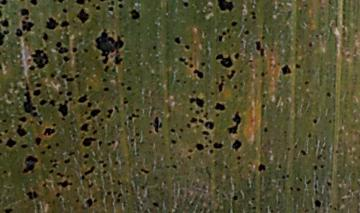tarspot: (94, 28, 125, 65), (21, 81, 39, 118), (226, 110, 243, 136), (30, 48, 49, 70), (21, 155, 39, 175), (214, 52, 233, 68), (57, 100, 70, 121), (13, 123, 30, 139), (149, 115, 162, 135), (216, 1, 235, 14), (76, 8, 90, 25), (44, 16, 59, 31), (81, 136, 97, 150), (187, 96, 205, 108), (279, 62, 293, 77), (20, 19, 35, 33), (216, 74, 226, 94), (254, 40, 265, 58), (128, 8, 141, 22), (56, 179, 73, 189), (86, 108, 100, 120), (192, 68, 205, 80), (231, 138, 242, 152), (212, 101, 226, 112), (4, 135, 15, 149), (42, 127, 56, 138), (75, 93, 88, 104), (25, 190, 39, 200), (33, 135, 43, 148), (79, 122, 90, 133), (256, 162, 266, 174), (19, 7, 31, 17), (176, 57, 188, 67), (83, 166, 96, 175), (312, 198, 322, 209), (101, 64, 111, 75), (204, 120, 215, 130), (226, 69, 236, 80), (128, 113, 140, 122), (194, 142, 204, 152), (188, 116, 197, 127), (55, 171, 66, 180), (59, 19, 70, 28), (1, 17, 10, 28), (212, 141, 224, 149), (105, 107, 113, 119), (31, 88, 41, 97), (84, 198, 93, 208), (47, 98, 56, 108), (172, 35, 181, 45), (14, 28, 23, 38), (106, 139, 117, 147), (57, 46, 68, 54), (42, 31, 49, 43), (324, 90, 333, 99), (113, 104, 121, 114), (122, 96, 130, 106), (1, 31, 6, 47), (202, 109, 209, 120), (17, 116, 28, 123), (139, 167, 150, 174), (181, 1, 190, 9), (2, 207, 14, 213), (19, 142, 28, 150), (39, 98, 47, 107), (27, 64, 36, 72), (62, 55, 71, 63), (293, 63, 302, 71), (66, 150, 76, 157), (115, 178, 122, 188), (250, 10, 257, 20), (168, 138, 176, 146), (86, 181, 94, 189), (63, 157, 71, 165), (125, 85, 133, 93), (299, 148, 306, 157), (81, 152, 90, 159), (82, 46, 89, 55), (37, 119, 44, 128), (241, 29, 250, 36), (90, 129, 99, 136), (262, 125, 268, 135), (311, 116, 317, 126), (315, 153, 321, 163), (65, 77, 75, 83), (234, 51, 240, 61), (217, 34, 223, 44), (234, 154, 242, 161), (102, 86, 110, 93), (167, 127, 175, 134), (325, 178, 332, 186), (230, 20, 238, 27), (65, 89, 72, 97), (152, 201, 160, 208), (45, 143, 52, 151), (48, 72, 56, 79), (71, 46, 78, 54), (55, 41, 63, 48), (105, 189, 112, 197), (260, 102, 267, 110), (302, 80, 310, 87), (133, 107, 141, 114), (200, 130, 211, 135), (34, 82, 43, 88), (59, 73, 68, 79), (29, 1, 39, 6), (214, 111, 221, 118), (283, 172, 290, 179), (318, 162, 325, 169), (222, 163, 229, 170), (61, 7, 68, 14), (231, 83, 238, 90), (107, 6, 114, 13), (94, 4, 101, 11), (295, 185, 301, 193), (279, 173, 285, 181), (189, 89, 197, 95), (97, 139, 103, 147), (51, 163, 59, 169), (97, 159, 105, 165), (184, 43, 190, 51), (23, 35, 29, 43), (208, 147, 213, 156), (288, 184, 293, 193), (306, 132, 312, 139), (249, 195, 256, 201), (302, 206, 308, 213), (184, 122, 190, 129), (55, 191, 61, 198), (86, 102, 92, 109), (47, 168, 54, 174), (41, 182, 47, 189), (101, 169, 107, 176), (113, 159, 119, 166), (119, 81, 125, 88), (52, 1, 66, 4), (101, 77, 108, 83), (74, 73, 80, 80), (178, 127, 184, 134), (134, 131, 141, 137), (171, 163, 177, 170), (23, 15, 30, 21), (200, 61, 206, 68), (140, 184, 146, 191), (186, 154, 192, 161), (187, 148, 193, 155), (307, 41, 313, 48), (220, 30, 226, 37), (225, 27, 231, 34), (226, 33, 232, 40), (188, 62, 194, 69), (232, 194, 238, 201), (314, 174, 320, 181), (312, 182, 318, 189), (313, 189, 319, 196), (117, 3, 124, 9), (3, 29, 10, 35), (194, 109, 199, 117), (75, 1, 85, 5), (260, 70, 265, 78), (250, 205, 256, 211), (305, 179, 311, 185), (197, 118, 203, 124), (3, 128, 9, 134), (2, 118, 8, 124), (80, 174, 84, 183), (83, 109, 89, 115), (2, 169, 8, 175), (40, 150, 46, 156), (54, 141, 60, 147), (102, 163, 108, 169), (151, 45, 157, 51), (115, 198, 121, 204), (174, 78, 180, 84), (238, 68, 244, 74), (242, 16, 248, 22), (207, 138, 212, 145), (276, 163, 281, 170), (312, 164, 317, 171), (81, 160, 88, 165), (50, 122, 57, 127), (112, 189, 117, 196), (124, 189, 131, 194), (209, 91, 216, 96), (293, 143, 298, 150), (188, 55, 193, 62), (238, 81, 243, 88), (297, 176, 302, 182), (92, 198, 98, 203), (67, 97, 73, 102), (57, 90, 63, 95), (87, 85, 93, 90), (129, 137, 135, 142), (117, 192, 122, 198), (182, 79, 187, 85), (260, 35, 266, 40), (269, 47, 274, 53), (314, 33, 319, 39), (110, 1, 115, 7), (238, 39, 244, 44), (229, 41, 234, 47), (97, 121, 102, 127), (100, 125, 105, 131), (1, 1, 8, 5), (1, 132, 3, 145), (188, 106, 193, 111), (48, 158, 53, 163), (53, 158, 58, 163), (203, 135, 207, 141), (199, 108, 203, 114), (99, 118, 105, 122), (286, 147, 291, 151), (1, 151, 3, 159), (1, 63, 3, 71), (98, 1, 105, 3), (86, 1, 92, 3), (1, 50, 2, 57), (117, 1, 123, 2)
